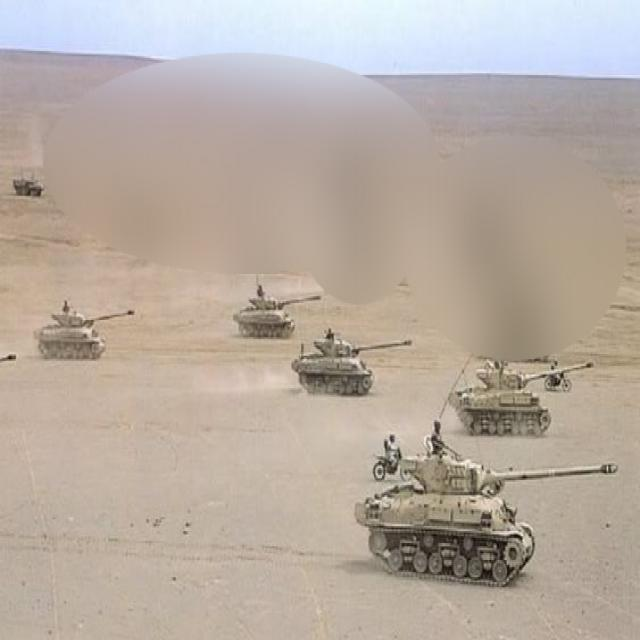tank: (352, 451, 621, 586), (448, 362, 552, 436), (290, 328, 374, 396), (34, 306, 108, 359), (233, 286, 296, 339), (8, 173, 45, 200)
